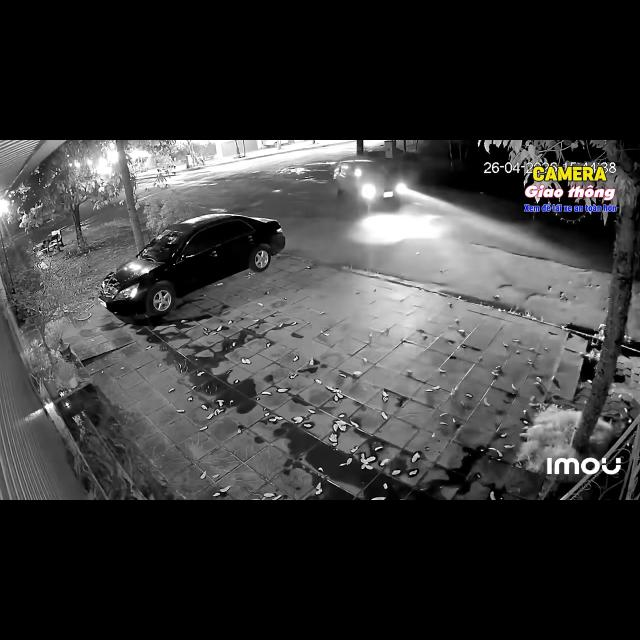car: (98, 214, 285, 316), (333, 159, 406, 202), (262, 140, 278, 147)
